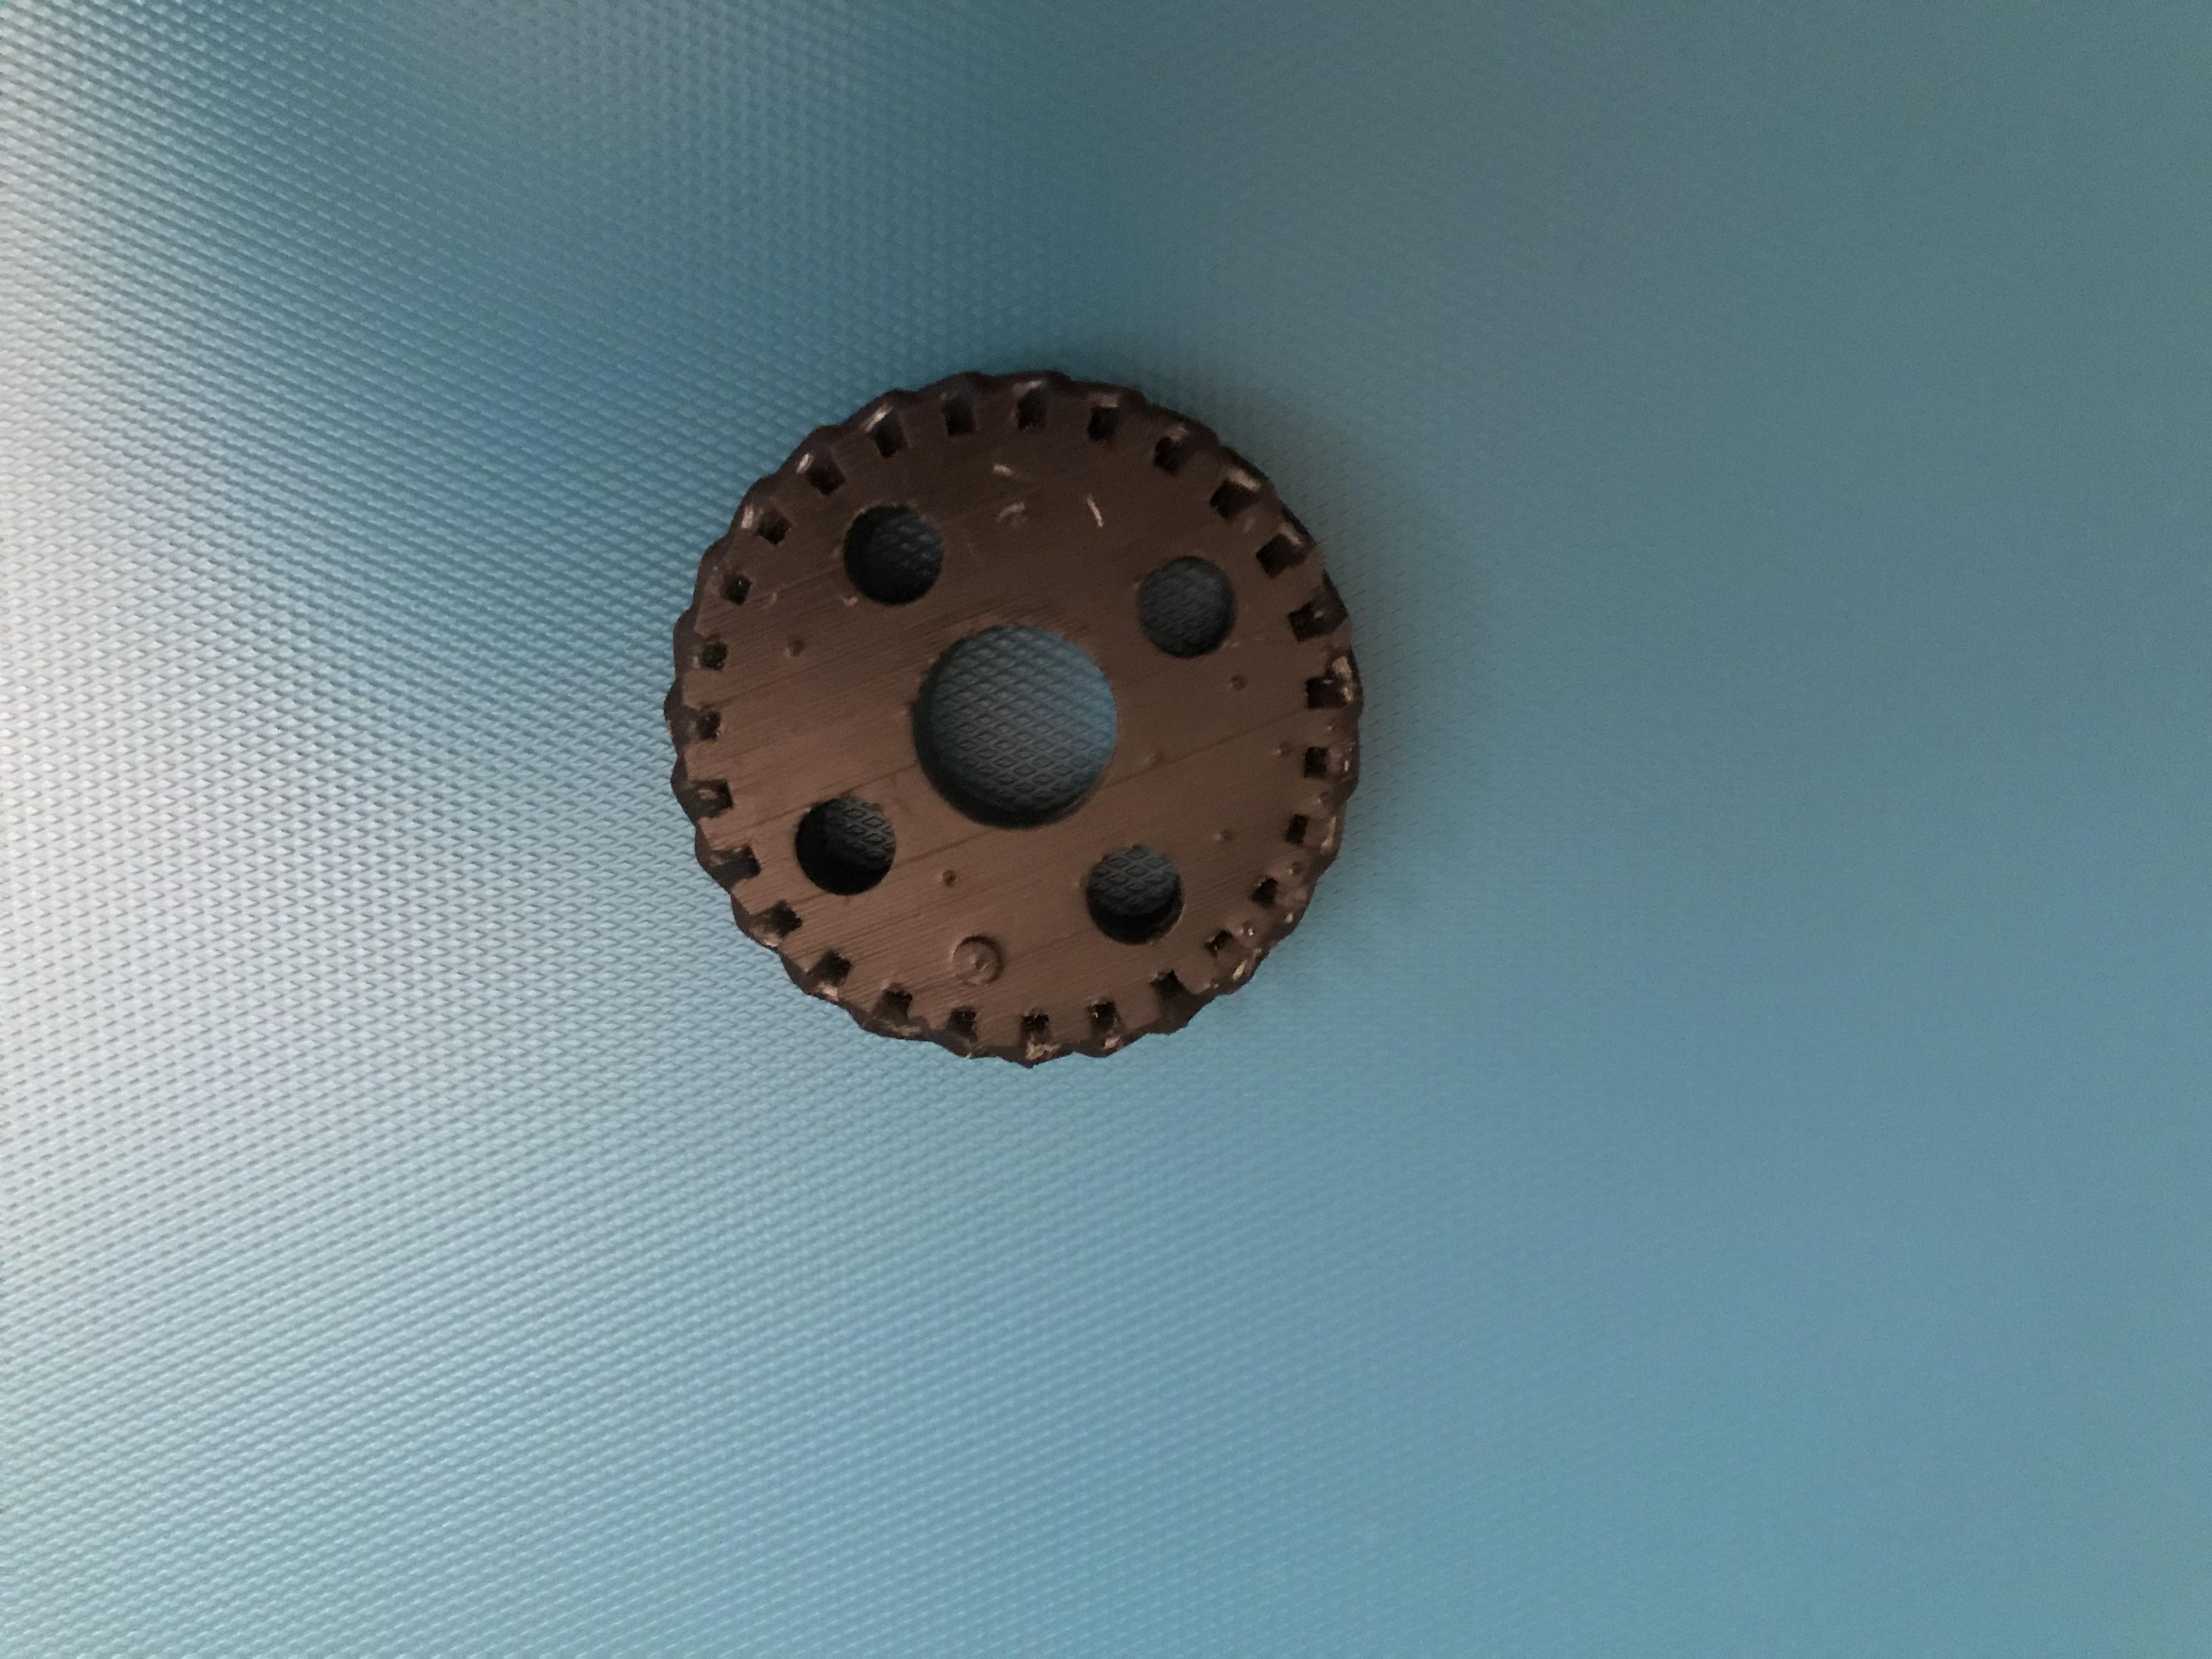Wheel: (667, 368, 1374, 1087)
